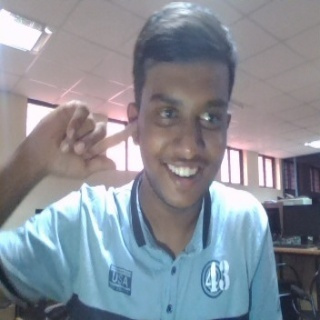Deaf: (24, 98, 138, 183)
Face: (126, 3, 237, 223)
